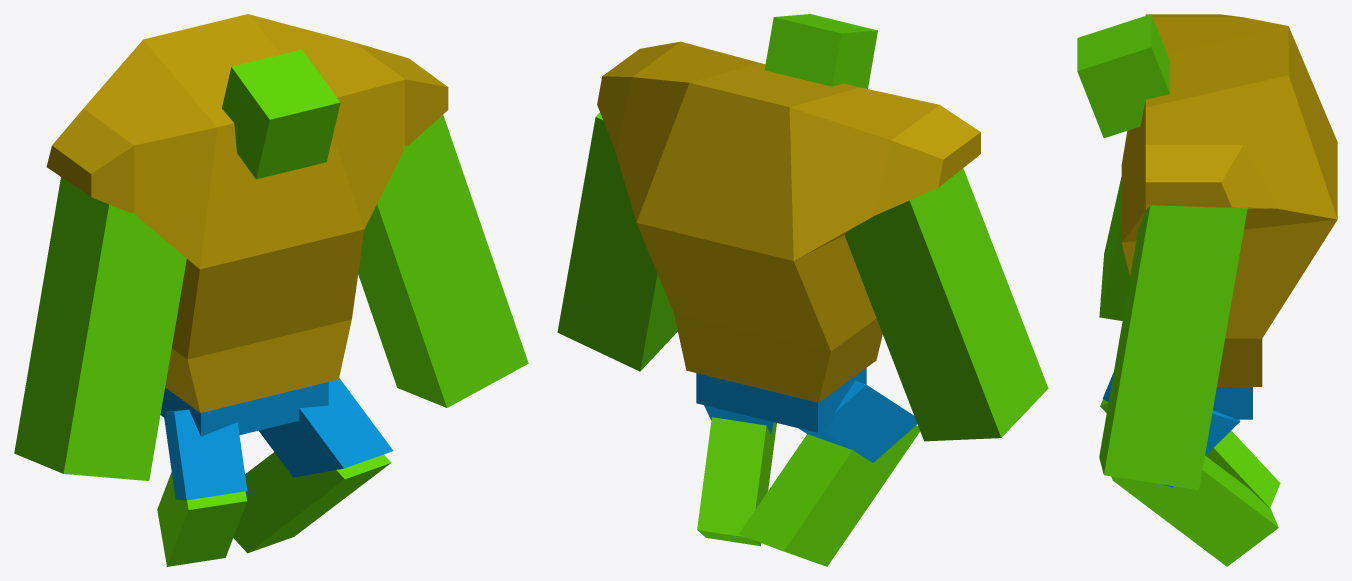
The model's file is TankZombieExport.fbx.
3 views of the same model, side by side, from view 1: azimuth 30°, elevation 25°; view 2: azimuth 150°, elevation 25°; view 3: azimuth 270°, elevation 25° (orthographic). The views are drawn at different scales.
Parts seen in each view (by area): view 1: pCube2, pCube7, pCube8, pCube1, pCube6, pCube4, pCube3, pCube5, pCube9; view 2: pCube2, pCube7, pCube8, pCube5, pCube6, pCube1, pCube9, pCube3; view 3: pCube2, pCube8, pCube1, pCube6, pCube5, pCube7, pCube9, pCube4.
Part boxes in pixels (x1,y1,x2,y2): pCube2: (46, 14, 448, 412); pCube7: (14, 177, 186, 480); pCube8: (358, 115, 528, 407); pCube1: (222, 49, 340, 179); pCube6: (233, 452, 391, 553); pCube4: (259, 378, 393, 477); pCube3: (164, 409, 247, 500); pCube5: (157, 472, 246, 566); pCube9: (160, 382, 328, 436); pCube2: (597, 41, 980, 402); pCube7: (844, 168, 1048, 441); pCube8: (557, 112, 677, 371); pCube5: (738, 425, 920, 566); pCube6: (697, 417, 776, 546); pCube1: (764, 14, 877, 88); pCube9: (696, 368, 866, 432); pCube3: (798, 381, 917, 462); pCube2: (1121, 14, 1337, 386); pCube8: (1099, 205, 1247, 490); pCube1: (1077, 14, 1169, 138); pCube6: (1111, 456, 1278, 566); pCube5: (1100, 399, 1280, 507); pCube7: (1099, 177, 1129, 320); pCube9: (1213, 387, 1252, 419); pCube4: (1162, 410, 1240, 487).
Size of the model in its own units: 6.66 by 7.17 by 3.35.
